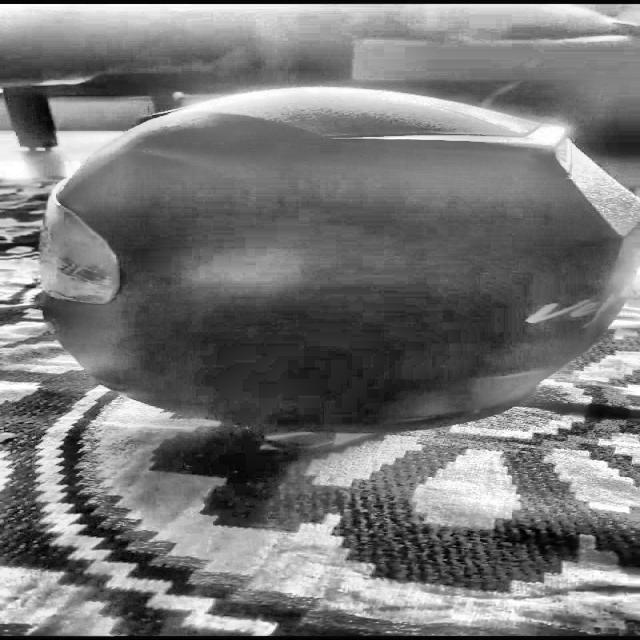Helmet: (32, 83, 640, 437)
